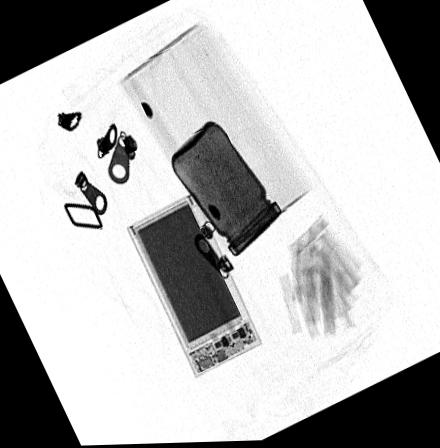Powerbank: (123, 192, 264, 380)
